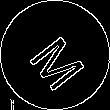M_NE: (21, 21, 89, 89)
